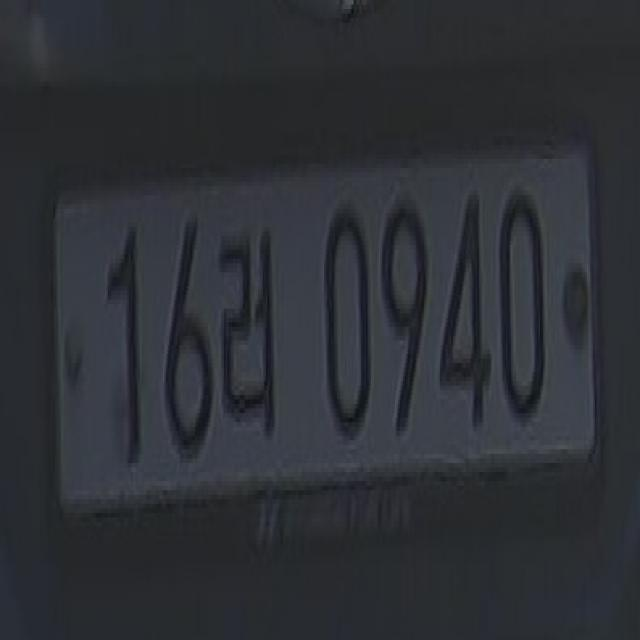0: (495, 172, 553, 450), (316, 191, 374, 454)
1: (100, 204, 156, 490)
4: (434, 177, 495, 449)
6: (158, 195, 219, 490)
9: (376, 191, 435, 449)
leo: (218, 209, 280, 463)
license_plate: (43, 100, 608, 545)
